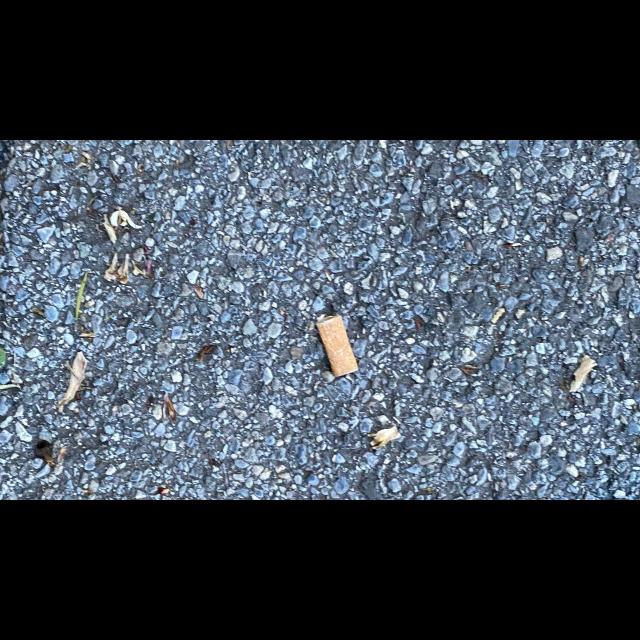cigarette: (314, 314, 360, 377)
